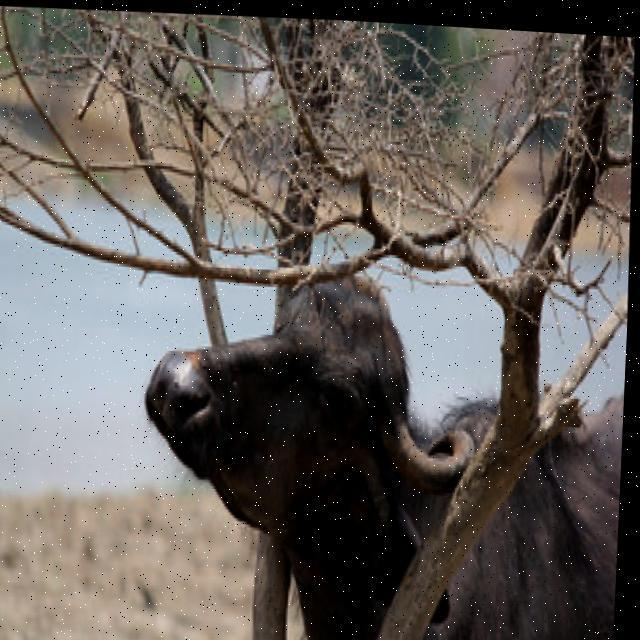Buffalo: (128, 249, 629, 640)
